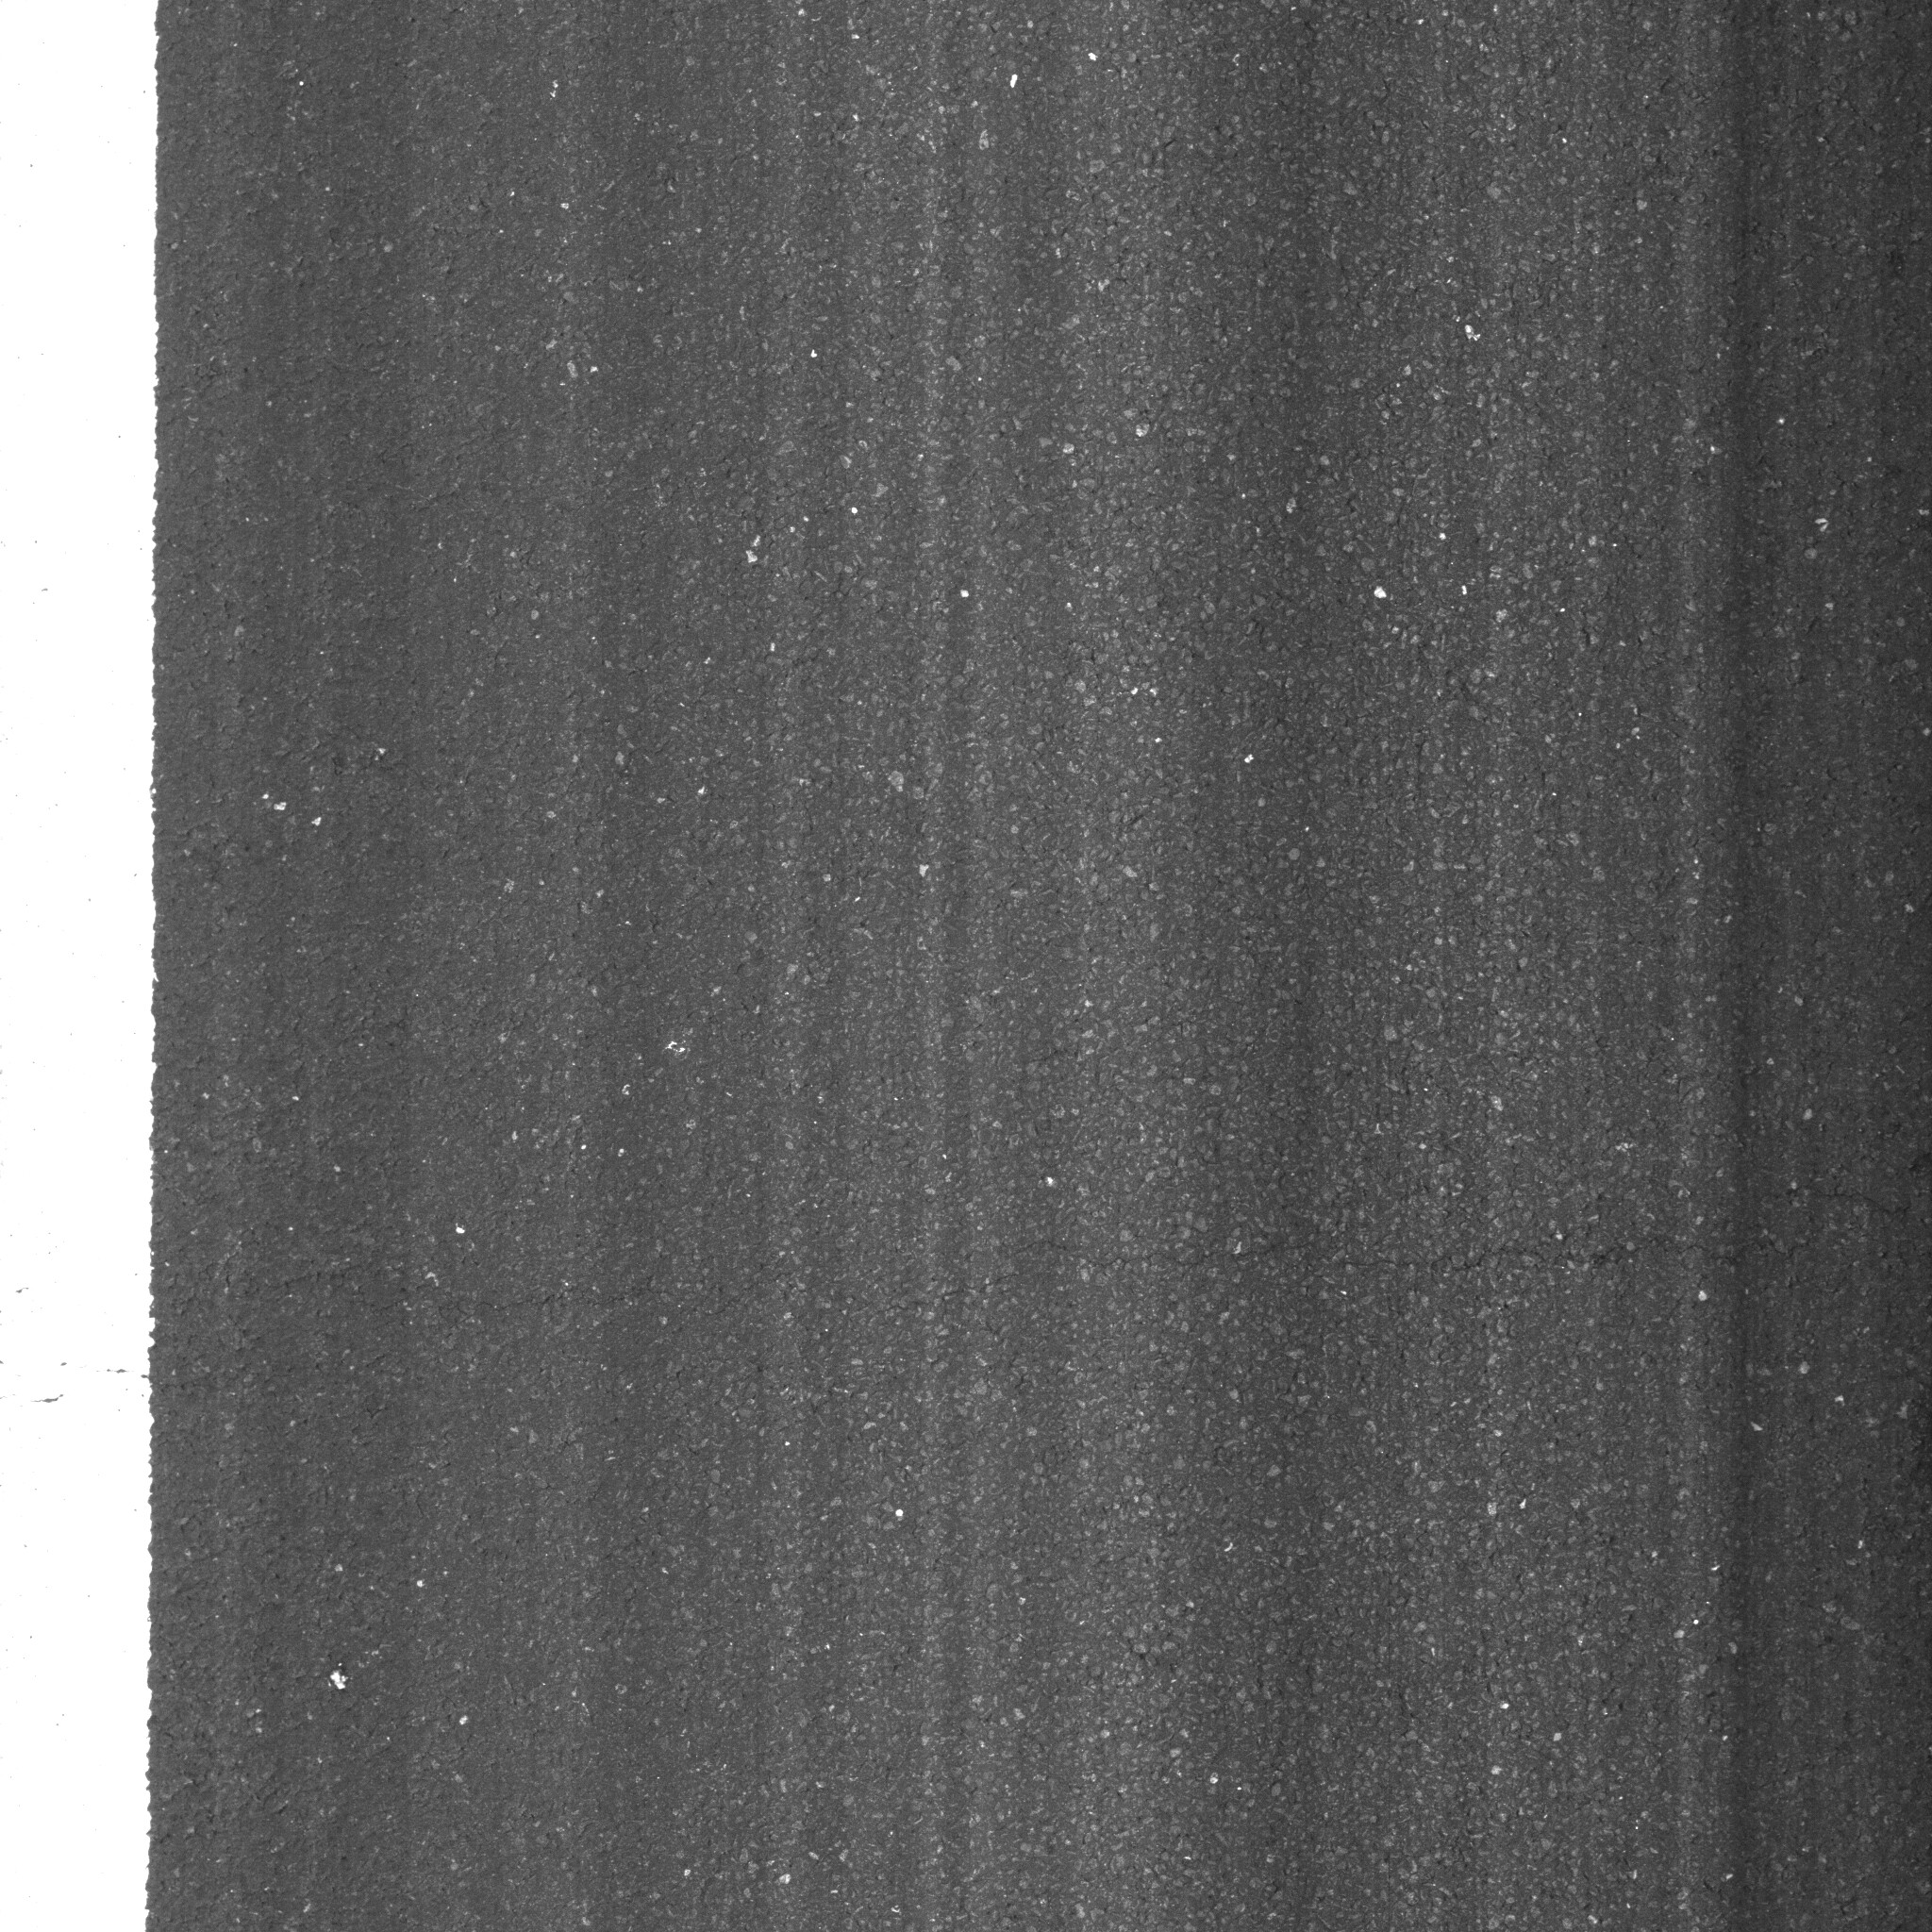transeverse: (1090, 1168, 1916, 1357)
